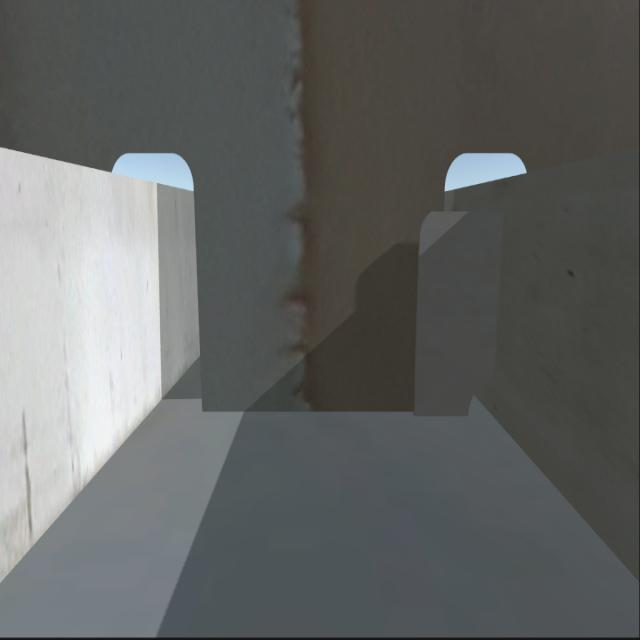fillet_hole: (468, 384, 499, 420)
fillet_yong_jeop_jang: (198, 410, 462, 418)
longi_yong_jeop_jang: (488, 220, 503, 380)
plate_CP05: (412, 201, 496, 420)
